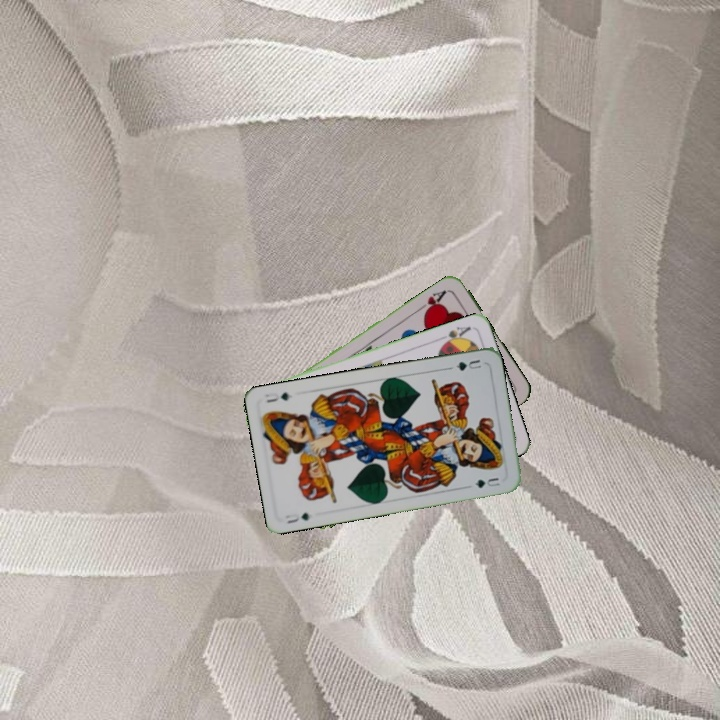GU: (452, 355, 484, 374), (281, 508, 313, 526)
HA: (414, 285, 450, 317)
SA: (435, 322, 474, 349)
